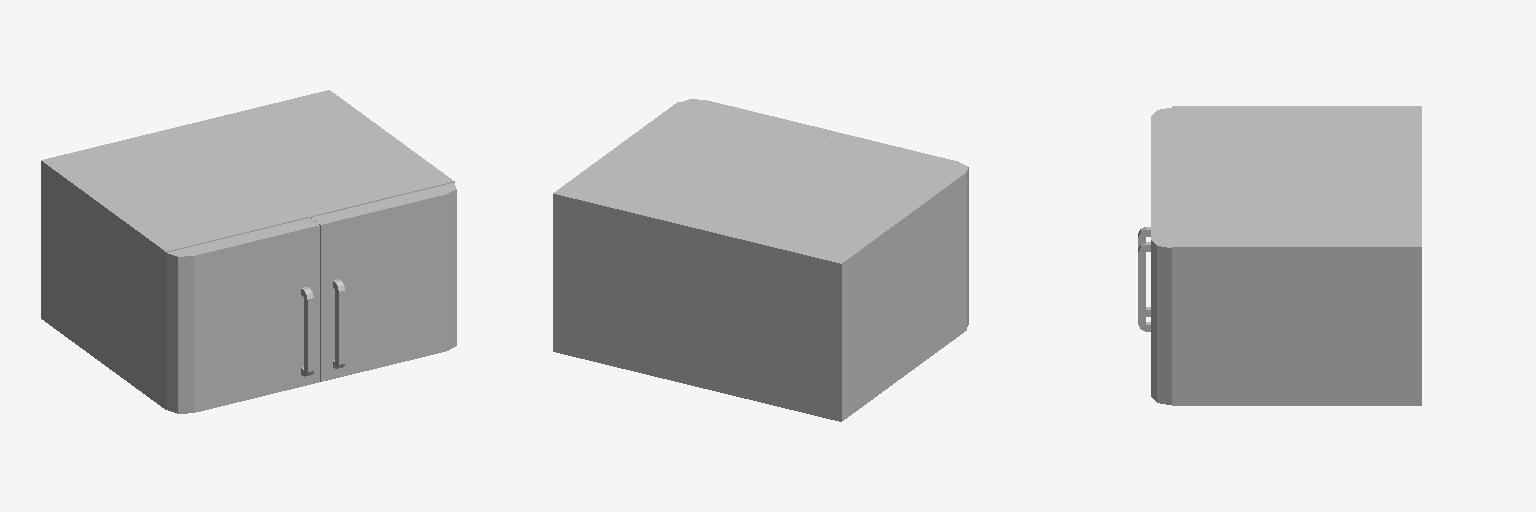
The model's file is wall.obj.
The picture shows the model from 3 angles: view 1: azimuth 30°, elevation 25°; view 2: azimuth 150°, elevation 25°; view 3: azimuth 270°, elevation 25°; orthographic projection.
Parts seen in each view (by area): view 1: Cube.117_Cube.145, Cube.118_Cube.146, Cube.119_Cube.147; view 2: Cube.117_Cube.145, Cube.118_Cube.146, Cube.119_Cube.147; view 3: Cube.117_Cube.145, Cube.119_Cube.147, Cube.118_Cube.146.
Boxes of the visible parts, x1=… form: Cube.117_Cube.145: x1=41, y1=90, x2=454, y2=409; Cube.118_Cube.146: x1=166, y1=218, x2=319, y2=413; Cube.119_Cube.147: x1=311, y1=183, x2=456, y2=381; Cube.117_Cube.145: x1=553, y1=102, x2=966, y2=421; Cube.118_Cube.146: x1=824, y1=131, x2=968, y2=326; Cube.119_Cube.147: x1=680, y1=99, x2=831, y2=136; Cube.117_Cube.145: x1=1172, y1=106, x2=1421, y2=405; Cube.119_Cube.147: x1=1138, y1=178, x2=1171, y2=404; Cube.118_Cube.146: x1=1138, y1=108, x2=1171, y2=316.
Bounding box in the file's own units: 0.1152 × 0.0603 × 0.0979.